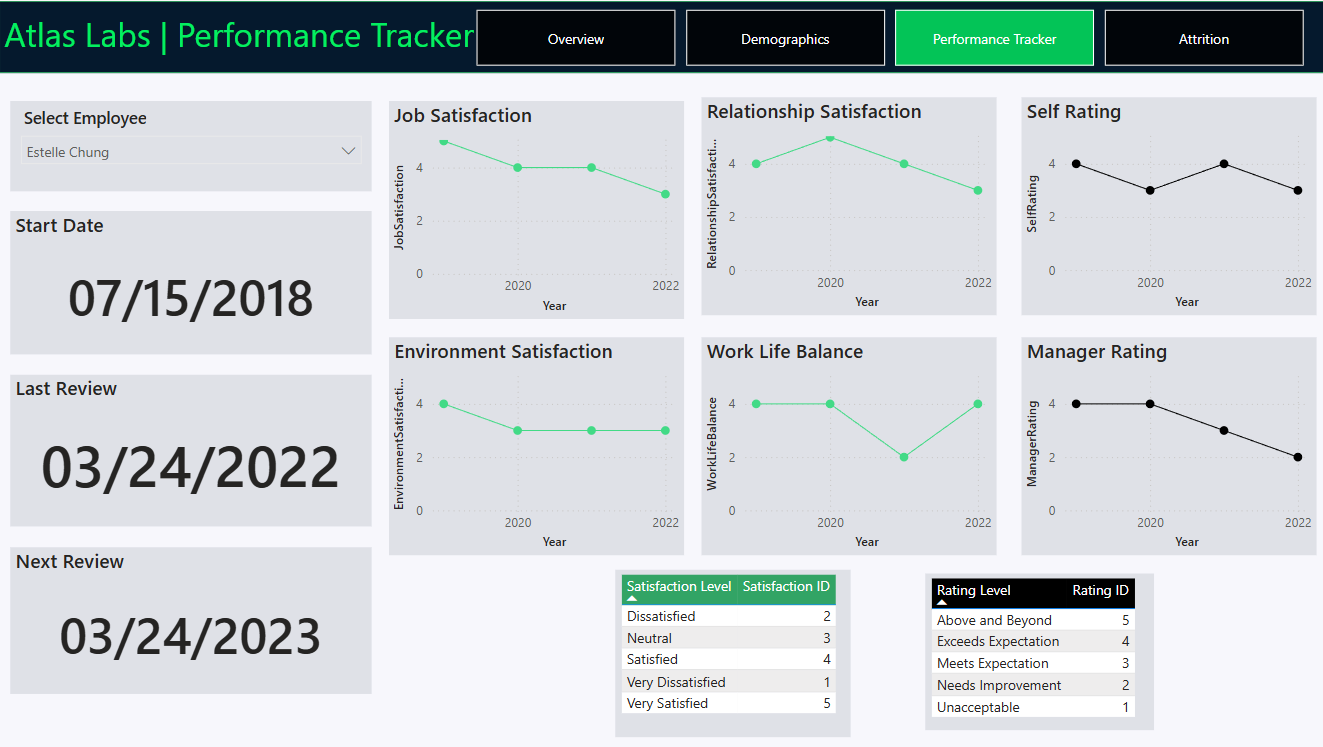

Layout of this report page (visuals, bound fields, positions):
{"tool":"powerbi","page":{"name":"Performance Tracker","canvas":[1280,720],"ordinal":2},"visuals":[{"type":"slicer","fields":{"Values":["DimEmployee.FullName"]},"box":[10.7,96,349,86.9],"z":0},{"type":"card","title":"Start Date","fields":{"Values":["Min(DimEmployee.HireDate)"]},"box":[10.7,202.7,349,138.7],"z":1000},{"type":"card","title":"Last Review","fields":{"Values":["__Measures.LastReviewDate"]},"box":[10.7,361.1,349,146.3],"z":2000},{"type":"card","title":"Next Review","fields":{"Values":["__Measures.NextReviewDate"]},"box":[10.7,527.2,349,141.7],"z":3000},{"type":"lineChart","title":"Job Satisfaction","fields":{"Category":["DimDate.Year"],"Y":["__Measures.JobSatisfaction"]},"box":[376.4,96,285,210],"z":4000},{"type":"lineChart","title":"Relationship Satisfaction ","fields":{"Category":["DimDate.Year"],"Y":["__Measures.RelationshipSatisfaction"]},"box":[678.1,93,285,210],"z":5000},{"type":"lineChart","title":"Self Rating","fields":{"Category":["DimDate.Year"],"Y":["__Measures.SelfRating"]},"box":[987.4,93,285,210],"z":6000},{"type":"lineChart","title":"Manager Rating","fields":{"Category":["DimDate.Year"],"Y":["__Measures.MangerRating"]},"box":[987.4,324.6,285,210.3],"z":7000},{"type":"lineChart","title":"Work Life Balance","fields":{"Category":["DimDate.Year"],"Y":["__Measures.WorkLifeBalance"]},"box":[678.1,324.6,285,210.3],"z":8000},{"type":"lineChart","title":"Environment Satisfaction","fields":{"Category":["DimDate.Year"],"Y":["__Measures.EnviromentSatisfaction"]},"box":[376.4,324.6,285,210.3],"z":9000},{"type":"tableEx","fields":{"Values":["DimSatisfiedLevel.SatisfactionLevel","DimSatisfiedLevel.SatisfactionID"]},"box":[594.3,548.6,227,161.5],"z":10000},{"type":"tableEx","fields":{"Values":["DimRatingLevel.RatingLevel","DimRatingLevel.RatingID"]},"box":[894.5,553.1,221,150.9],"z":11000},{"type":"shape","box":[0,0,1279.7,69.9],"z":12000},{"type":"textbox","box":[0,4.6,589.7,57.9],"z":13000},{"type":"pageNavigator","box":[460.3,8.6,800,54.2],"z":14000}]}

Visuals, with their boxes in screenshot pixels (x1, y1, x2, y2), scaled from the page's 1280x720 canvas onto the 1323x747 screenshot:
slicer - DimEmployee.FullName: locate(11, 100, 372, 190)
"Start Date" card: locate(11, 210, 372, 354)
"Last Review" card: locate(11, 375, 372, 526)
"Next Review" card: locate(11, 547, 372, 694)
"Job Satisfaction" lineChart: locate(389, 100, 684, 317)
"Relationship Satisfaction " lineChart: locate(701, 96, 995, 314)
"Self Rating" lineChart: locate(1021, 96, 1315, 314)
"Manager Rating" lineChart: locate(1021, 337, 1315, 555)
"Work Life Balance" lineChart: locate(701, 337, 995, 555)
"Environment Satisfaction" lineChart: locate(389, 337, 684, 555)
tableEx - DimSatisfiedLevel.SatisfactionLevel x DimSatisfiedLevel.SatisfactionID: locate(614, 569, 849, 737)
tableEx - DimRatingLevel.RatingLevel x DimRatingLevel.RatingID: locate(925, 574, 1153, 730)
shape: locate(0, 0, 1322, 73)
textbox: locate(0, 5, 610, 65)
pageNavigator: locate(476, 9, 1303, 65)
